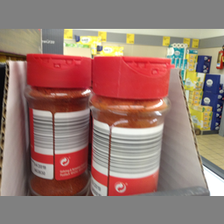spices: (91, 55, 171, 196), (25, 53, 91, 195)
